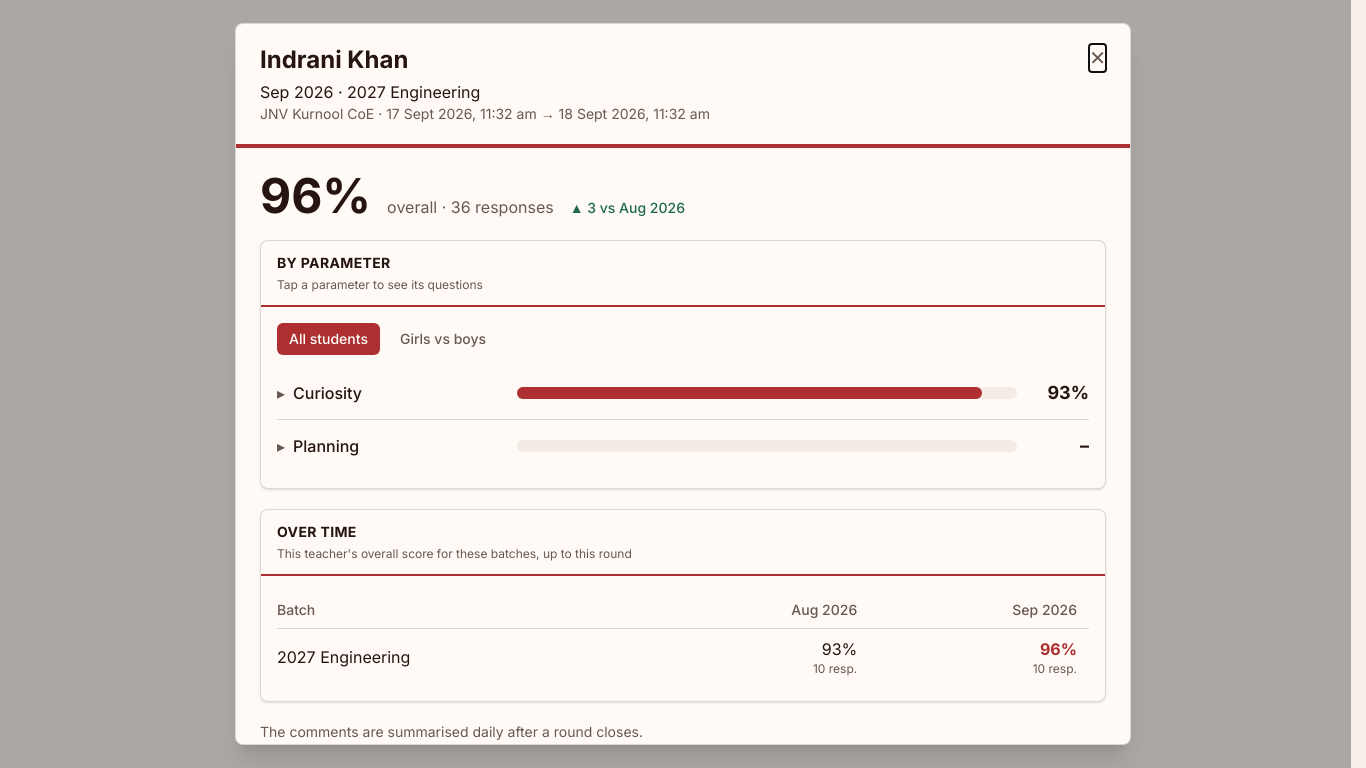
it: AnalysisModal › splits by gender when both groups are big enough
Click the button "Girls vs boys" at x=443, y=339, box [388,323,498,355]
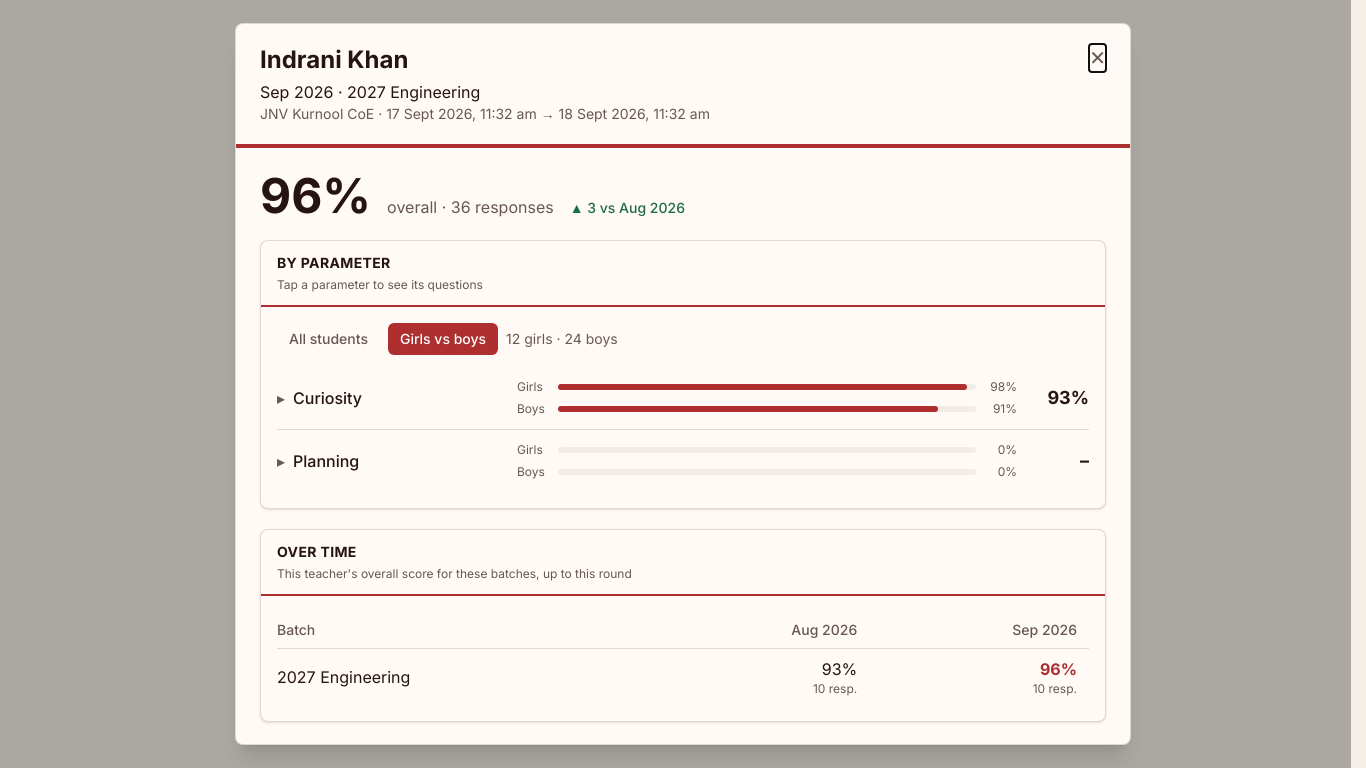
Check: the text "12 girls · 24 boys" is shown, box [506,329,618,349]
Check: the text "98%" is shown, box [990,379,1017,394]
Check: the text "91%" is shown, box [993,401,1017,416]
